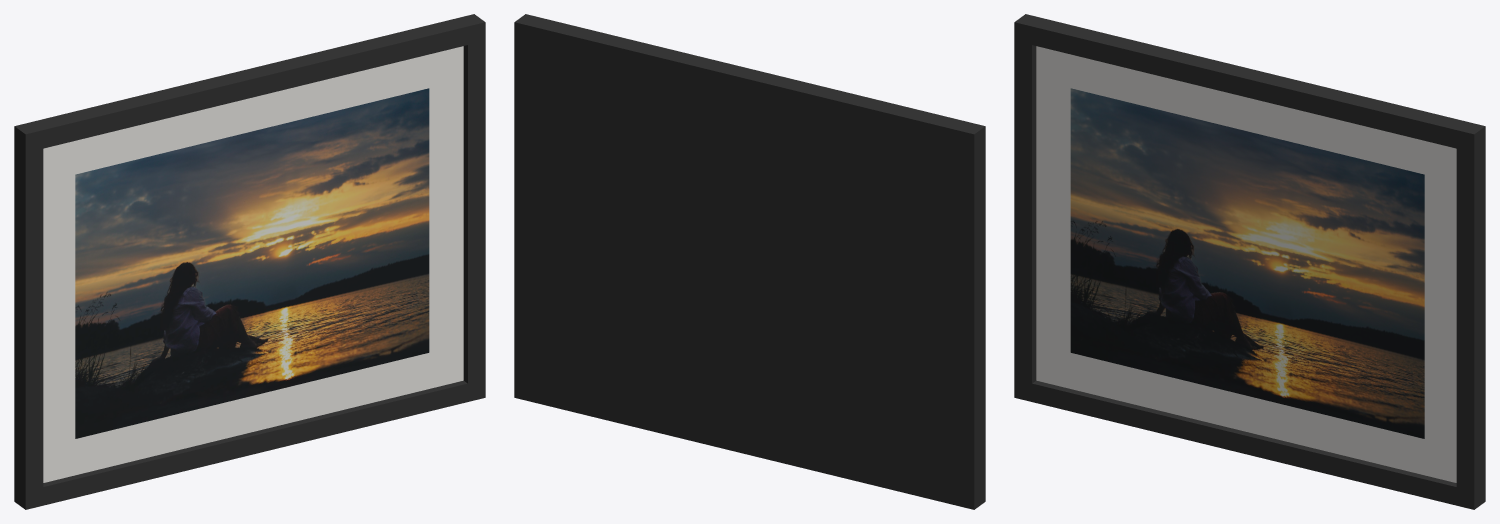
Rendered from kvallen-40.gltf.
The picture shows the model from 3 angles, left to right: view 1: azimuth 30°, elevation 25°; view 2: azimuth 150°, elevation 25°; view 3: azimuth 330°, elevation 25°; orthographic projection.
Visible parts, largest first — view 1: tavla; view 2: tavla; view 3: tavla.
Boxes of the visible parts, x1=… form: tavla: x1=14, y1=14, x2=485, y2=509; tavla: x1=514, y1=14, x2=985, y2=509; tavla: x1=1014, y1=14, x2=1485, y2=509.
Bounding box in the file's own units: 0.52 × 0.4058 × 0.022.
Materials: 3 (1 with a texture image).
